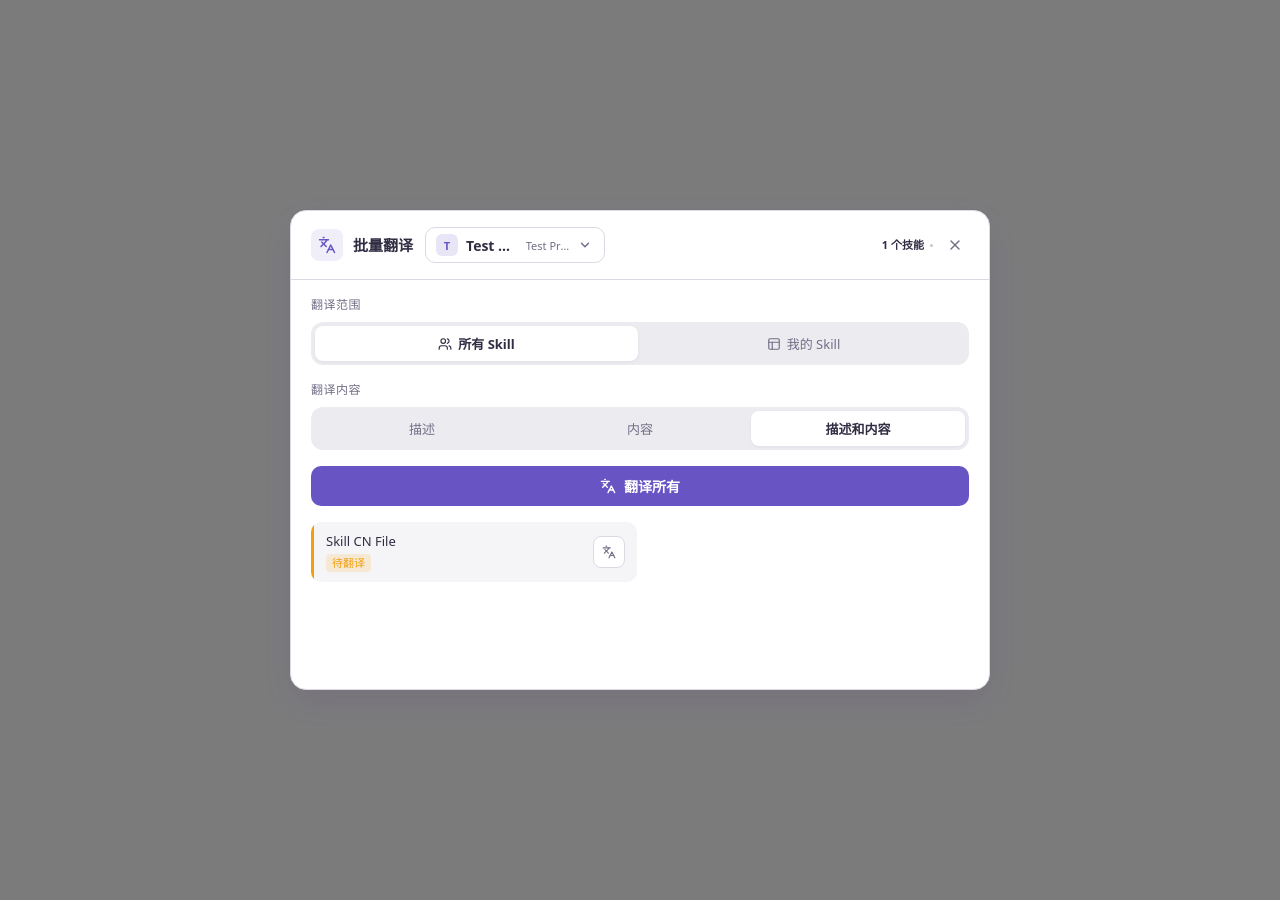
Scenario: Translation status detection › Chinese skill in SKILL.md file shows 中文
Step 1. Click the button with class "segment-btn" showing "内容" → (640, 428), box [533, 411, 747, 446]
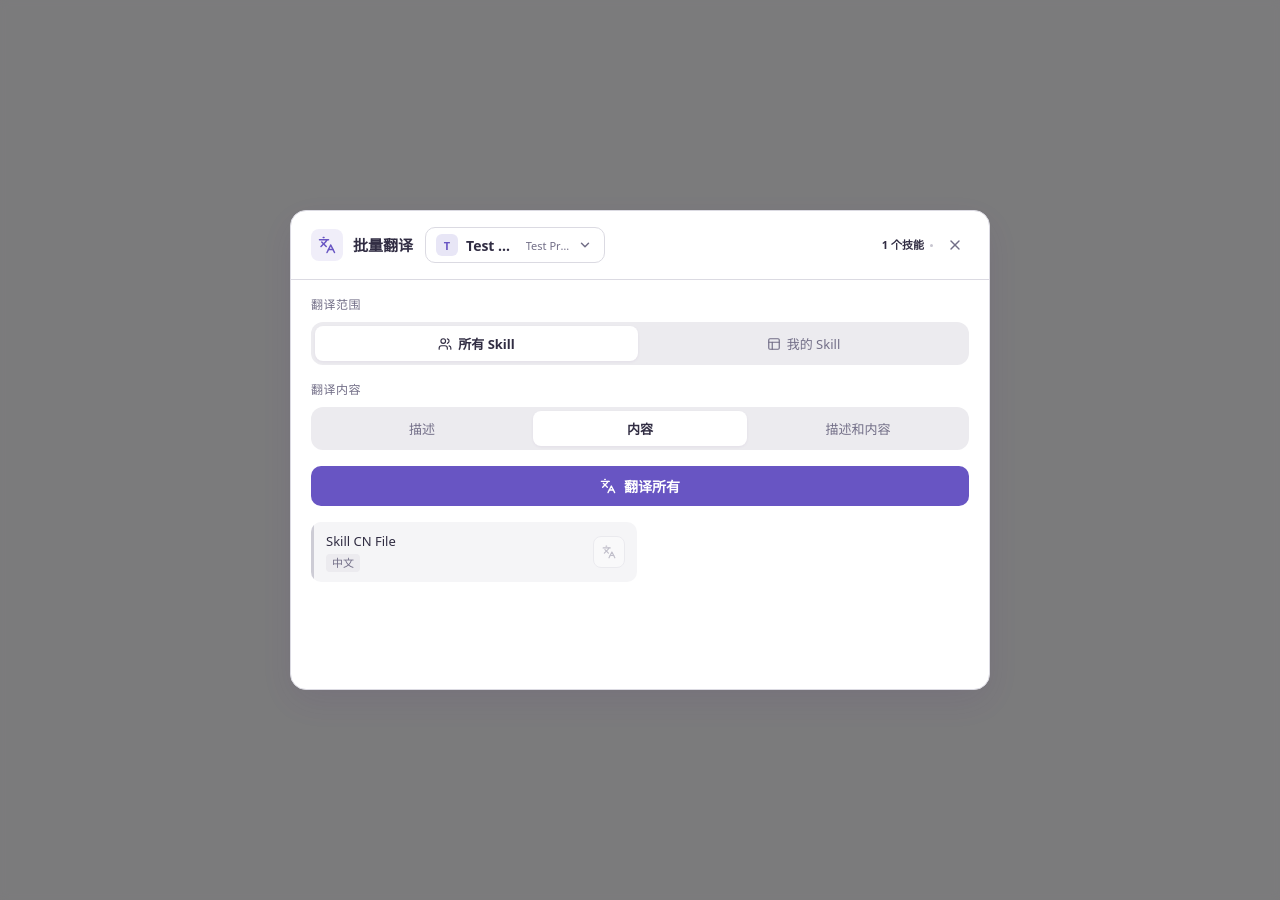
Expected: the button with class "translate-btn" is disabled, [593, 536, 625, 568]
